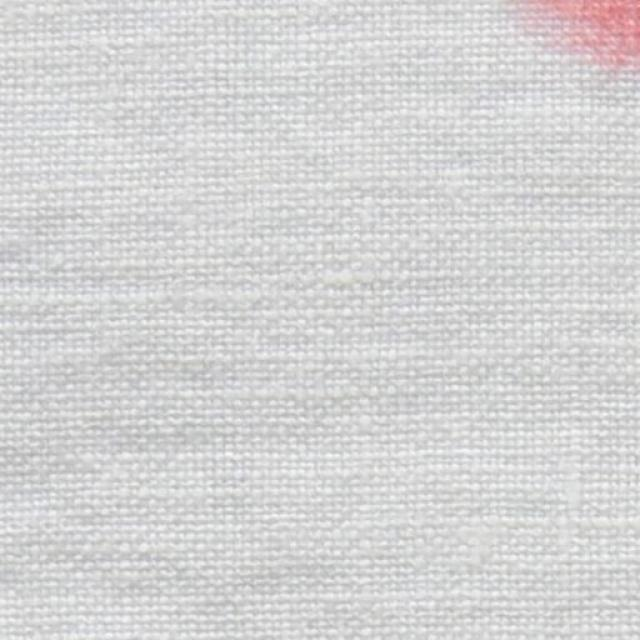Stain: (528, 0, 640, 67)
